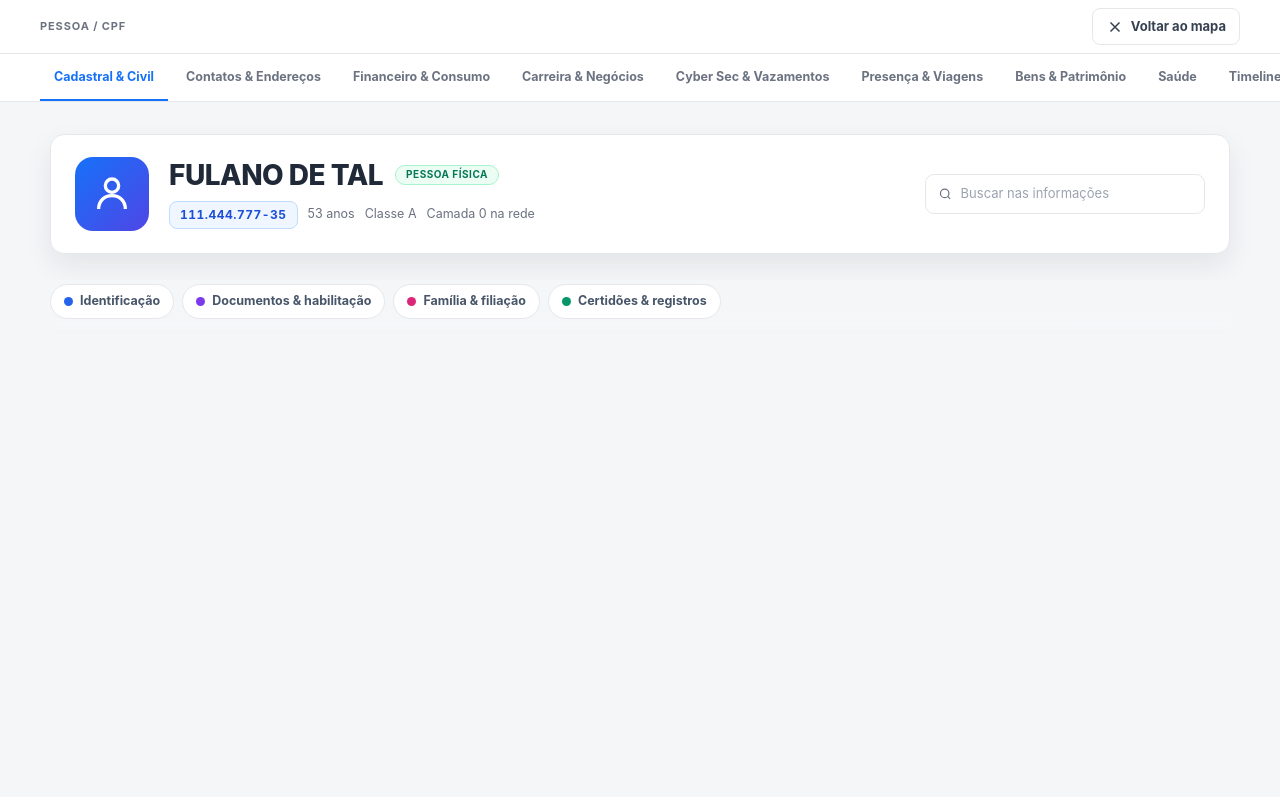
EntityDetail — pessoa em tela cheia com o dicionário de campos › não omite nenhum campo — mostra também os campos fora do conjunto curado
Step 1. Click the button "Contatos & Endereços" → (254, 77), box [172,54,335,101]
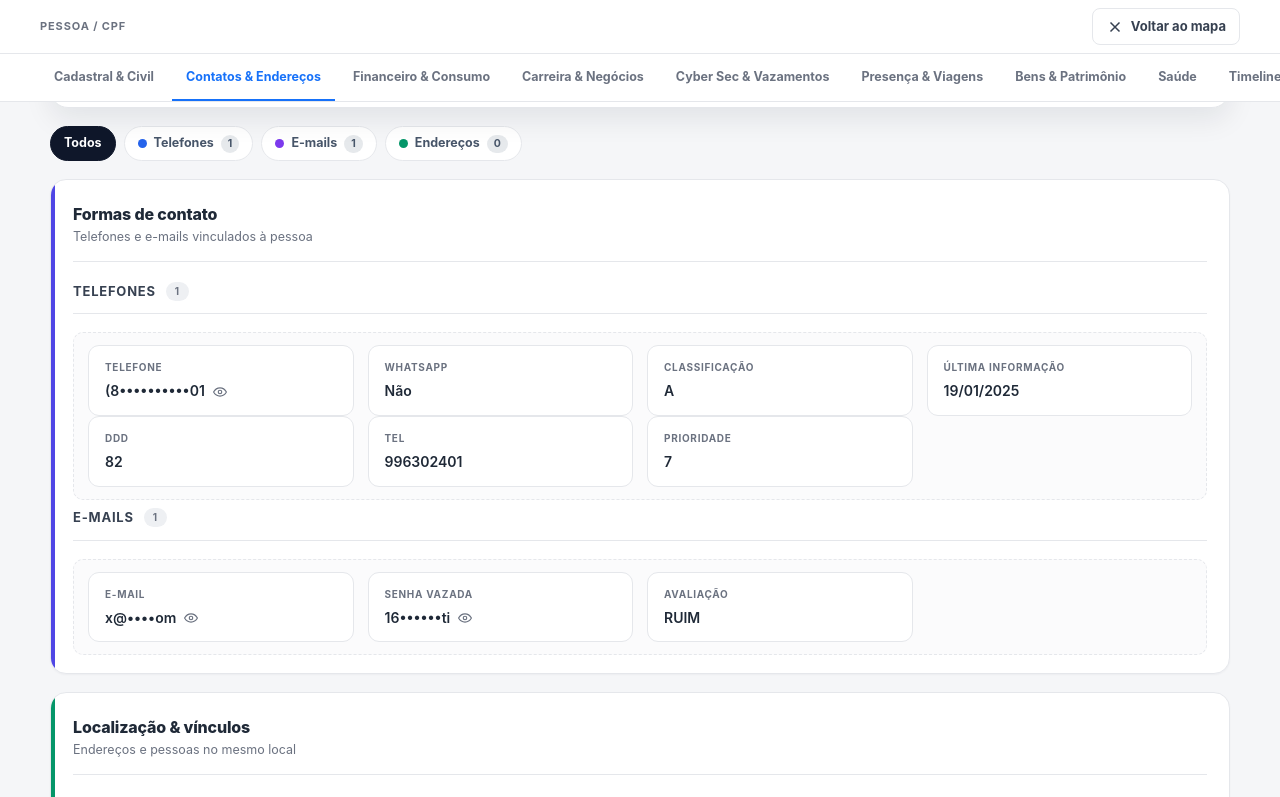
Result: the text "Prioridade" is shown at [664,432,732,444]
Result: the text "Ddd" is shown at [105,432,129,444]
